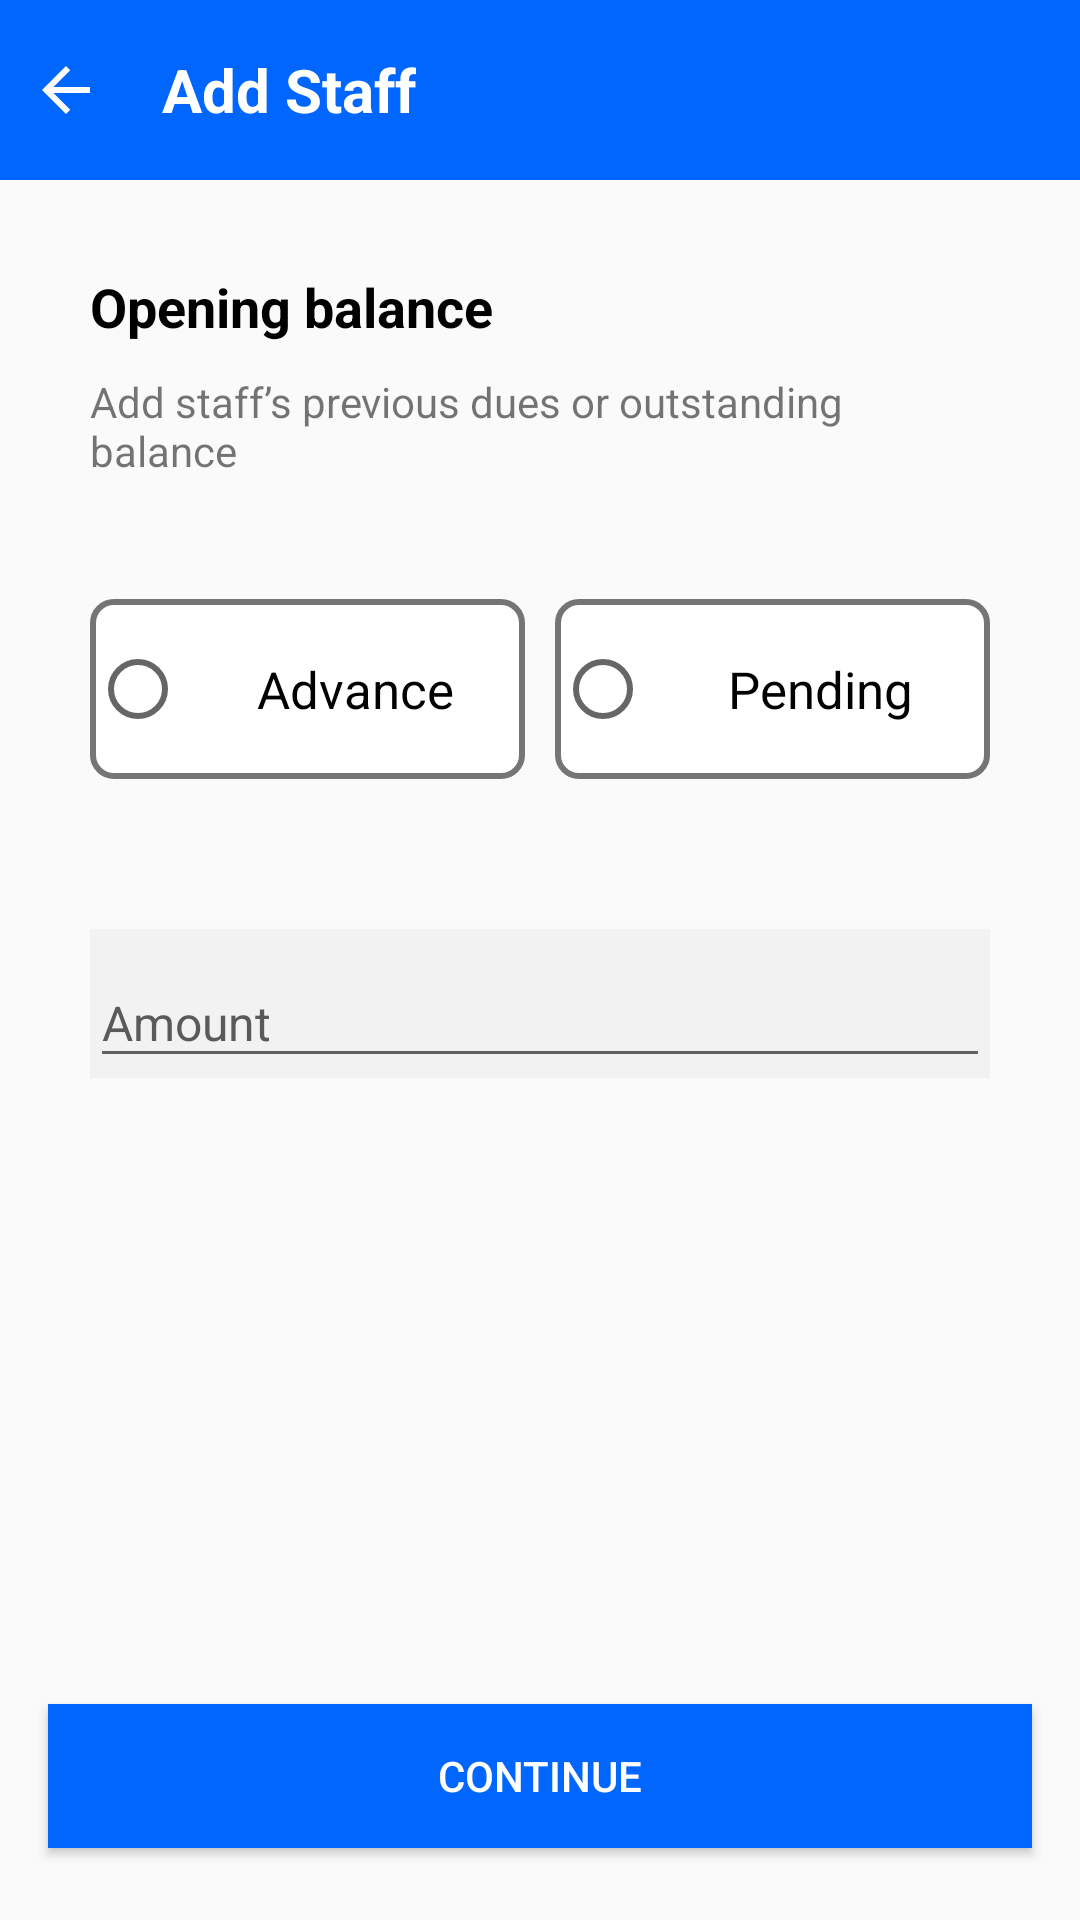

Icon click points for this 1080×1920 phone screenshot, format [x,y]:
arrow back: [66,90]
